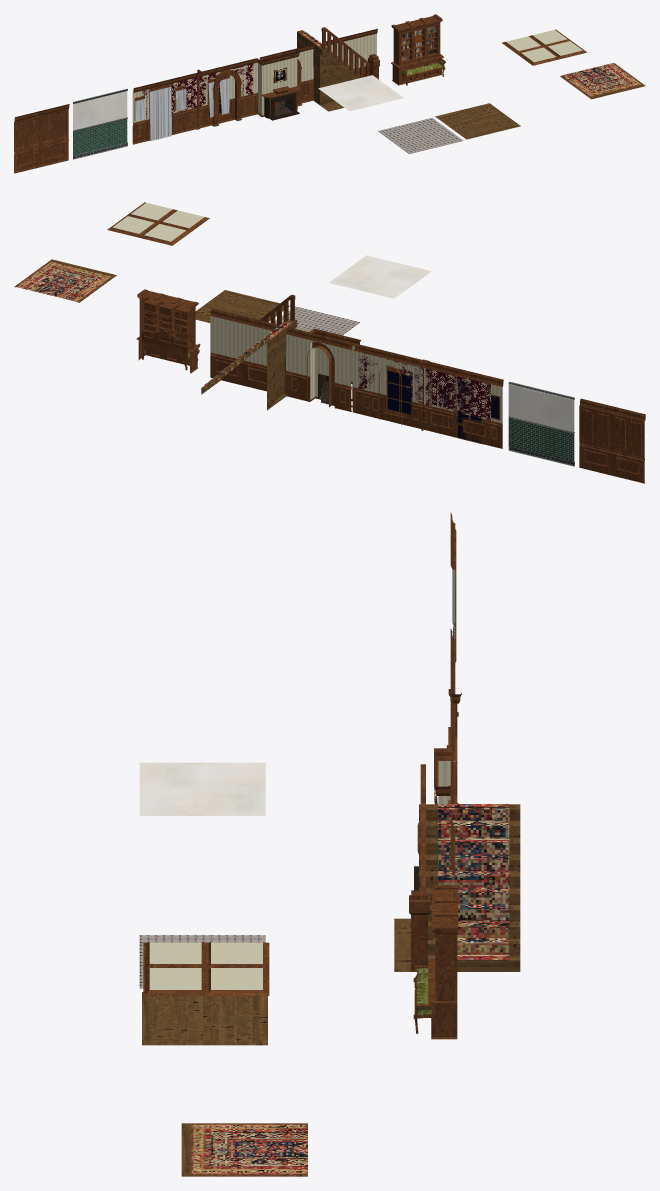
Rendered from models.glb.
3 views of the same model, one above another, from view 1: azimuth 30°, elevation 25°; view 2: azimuth 150°, elevation 25°; view 3: azimuth 270°, elevation 25° (orthographic). The views are drawn at different scales.
Visible parts, largest first — view 1: Wall.Batthroom, Wall.Wood, Stairs, Wall.FrontDoor, Fireplace, Cube, Wall.Arch.RedWallpaper, Wall.Window, Plane.002, Ceiling, Ceiling.Plaster, Plane.001 (+5 smaller); view 2: Wall.Batthroom, Wall.Wood, Plane.004, Wall.Window, Plane, Cube, Plane.003, Fireplace, Stairs, Ceiling.Plaster, Ceiling, Plane.002 (+5 smaller); view 3: Stairs, Plane.002, Ceiling, Ceiling.Plaster, Plane.001, Cube, Floor.Tiles, Fireplace.
Part boxes in pixels (x1,y1,x2,y2): Wall.Batthroom: (73, 88, 127, 159); Wall.Wood: (14, 104, 69, 173); Stairs: (297, 27, 379, 111); Wall.FrontDoor: (132, 75, 188, 144); Fireplace: (248, 48, 303, 120); Cube: (391, 14, 443, 85); Wall.Arch.RedWallpaper: (199, 59, 253, 127); Wall.Window: (191, 60, 246, 130); Plane.002: (560, 63, 645, 99); Ceiling: (501, 29, 587, 65); Ceiling.Plaster: (318, 75, 403, 111); Plane.001: (435, 103, 520, 139); Wall.Batthroom: (508, 381, 574, 466); Wall.Wood: (579, 398, 645, 483); Plane.004: (425, 361, 492, 445); Wall.Window: (367, 348, 433, 431); Plane: (210, 308, 276, 391); Cube: (136, 289, 199, 373); Plane.003: (286, 327, 352, 411); Fireplace: (298, 328, 364, 413); Stairs: (201, 294, 297, 410); Ceiling.Plaster: (329, 255, 431, 298); Ceiling: (107, 202, 209, 245); Plane.002: (14, 259, 116, 302); Stairs: (394, 764, 520, 971); Plane.002: (181, 1123, 307, 1176); Ceiling: (143, 942, 269, 995); Ceiling.Plaster: (139, 762, 265, 815); Plane.001: (142, 992, 267, 1045); Cube: (428, 885, 458, 1039); Floor.Tiles: (139, 935, 265, 988); Fireplace: (414, 742, 455, 890).
Bounding box in the file's own units: 30.94 × 4.08 × 9.06.
Materials: 17 (16 with a texture image).
